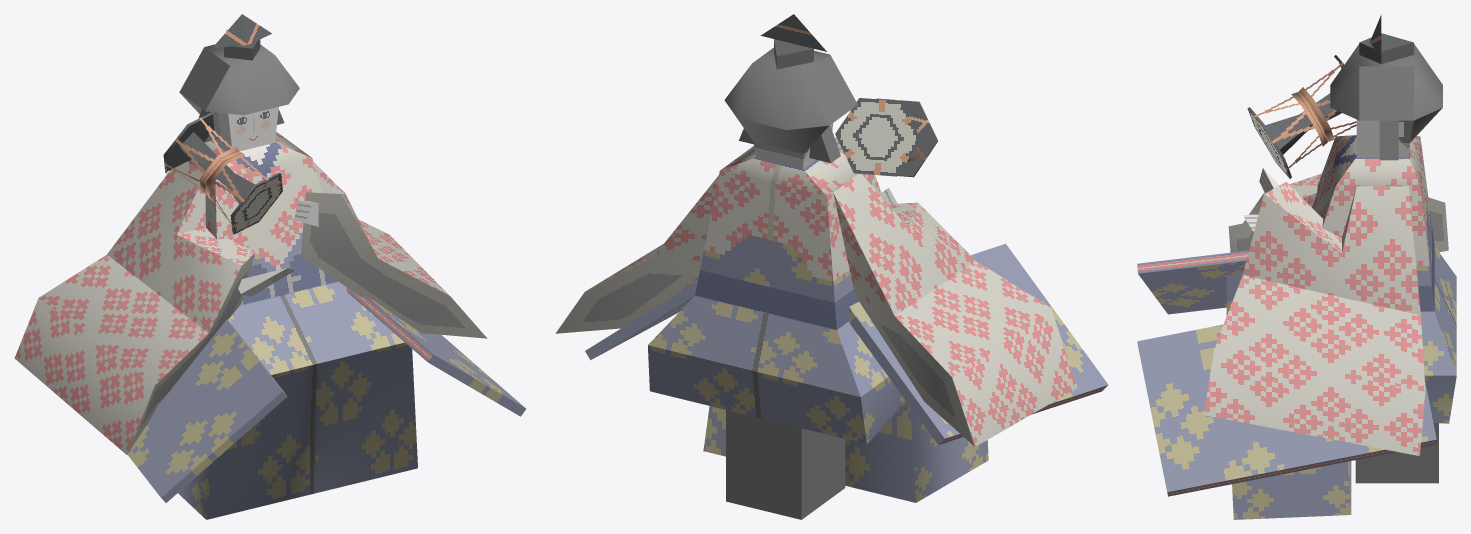
Rendered from 029d_Court_Musician.glb.
The picture shows the model from 3 angles, left to right: view 1: azimuth 30°, elevation 25°; view 2: azimuth 150°, elevation 25°; view 3: azimuth 270°, elevation 25°; orthographic projection. The views are drawn at different scales.
Parts seen in each view (by area): view 1: part_0; view 2: part_0; view 3: part_0.
Part boxes in pixels (bbox=[...]): part_0: bbox=[14, 14, 525, 519]; part_0: bbox=[555, 14, 1108, 519]; part_0: bbox=[1137, 15, 1456, 519].
Bounding box in the file's own units: 0.3216 × 0.3354 × 0.2151.
1 material, 1 textured.
